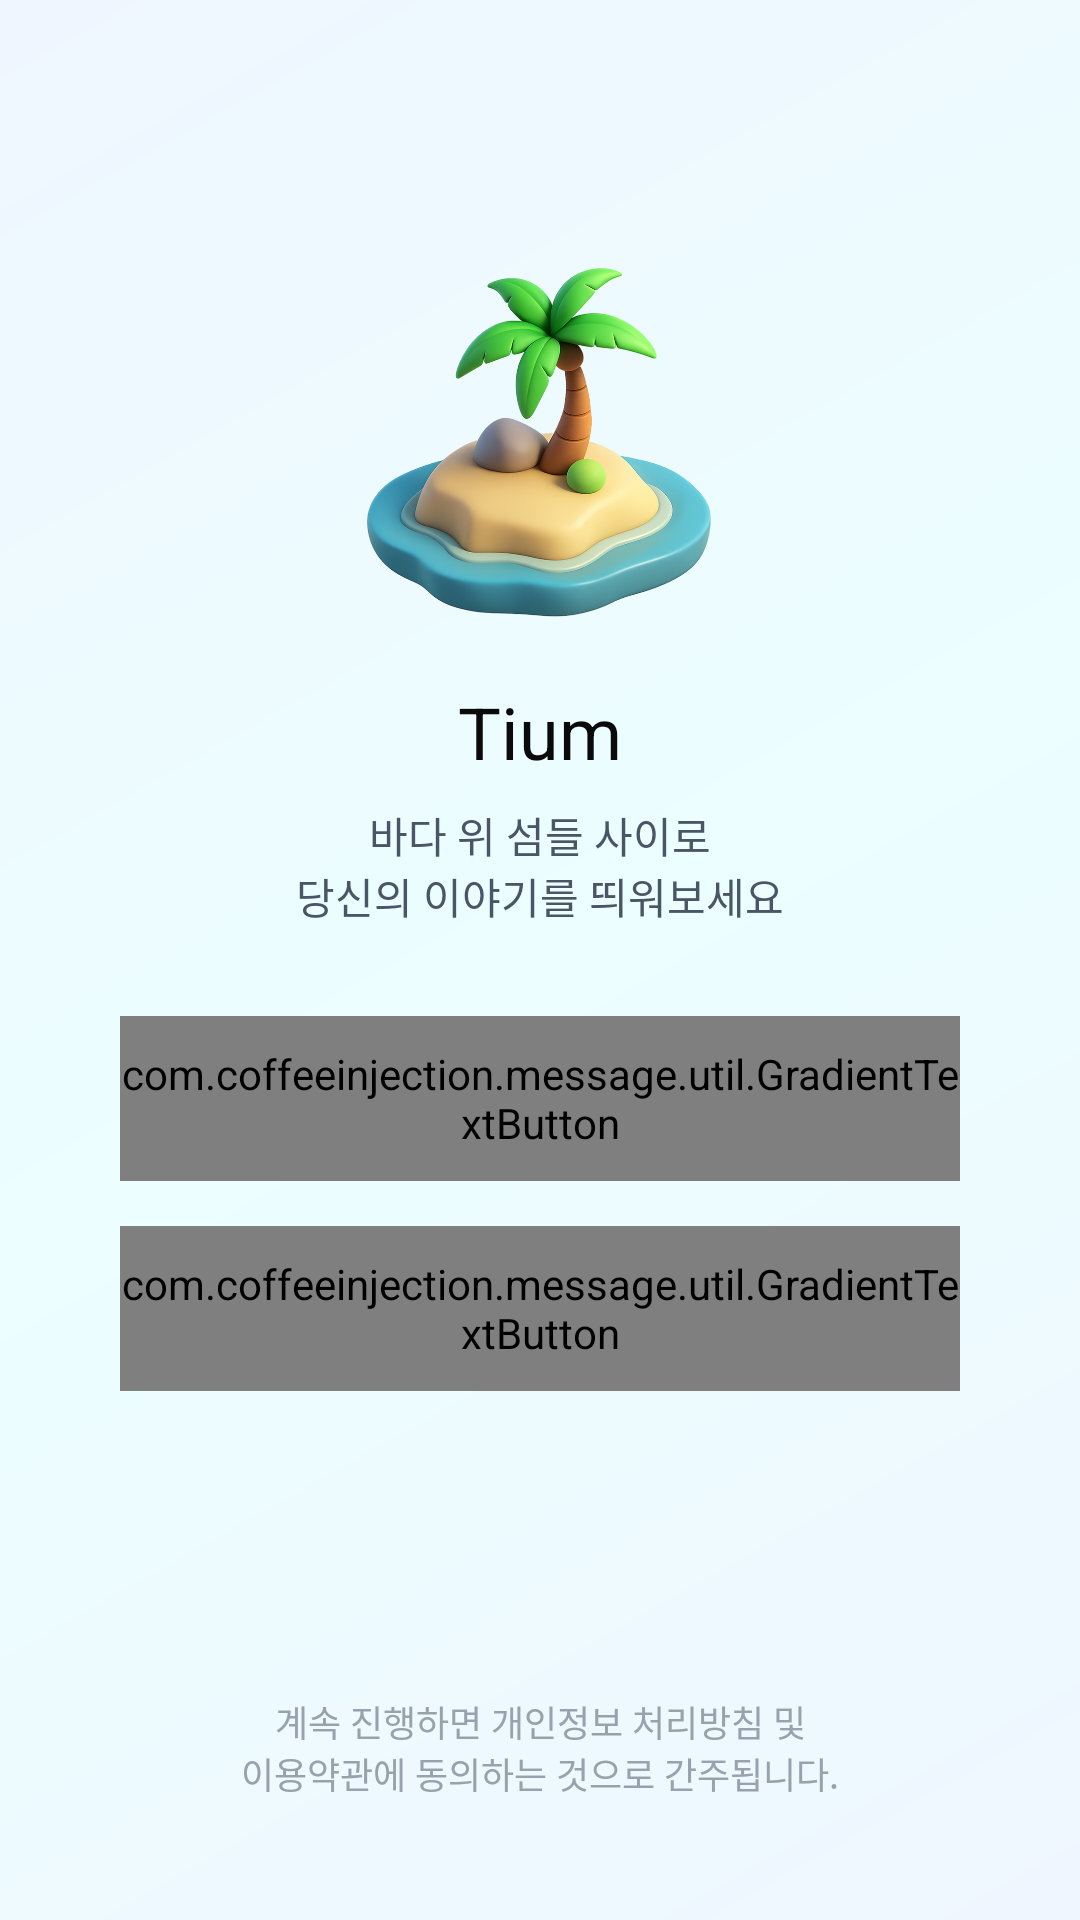

Locate icon controls on the screen. Image size 1080×1920, boxes as region(x1, y1, x2, y2).
island daytime: region(367, 268, 711, 617)
